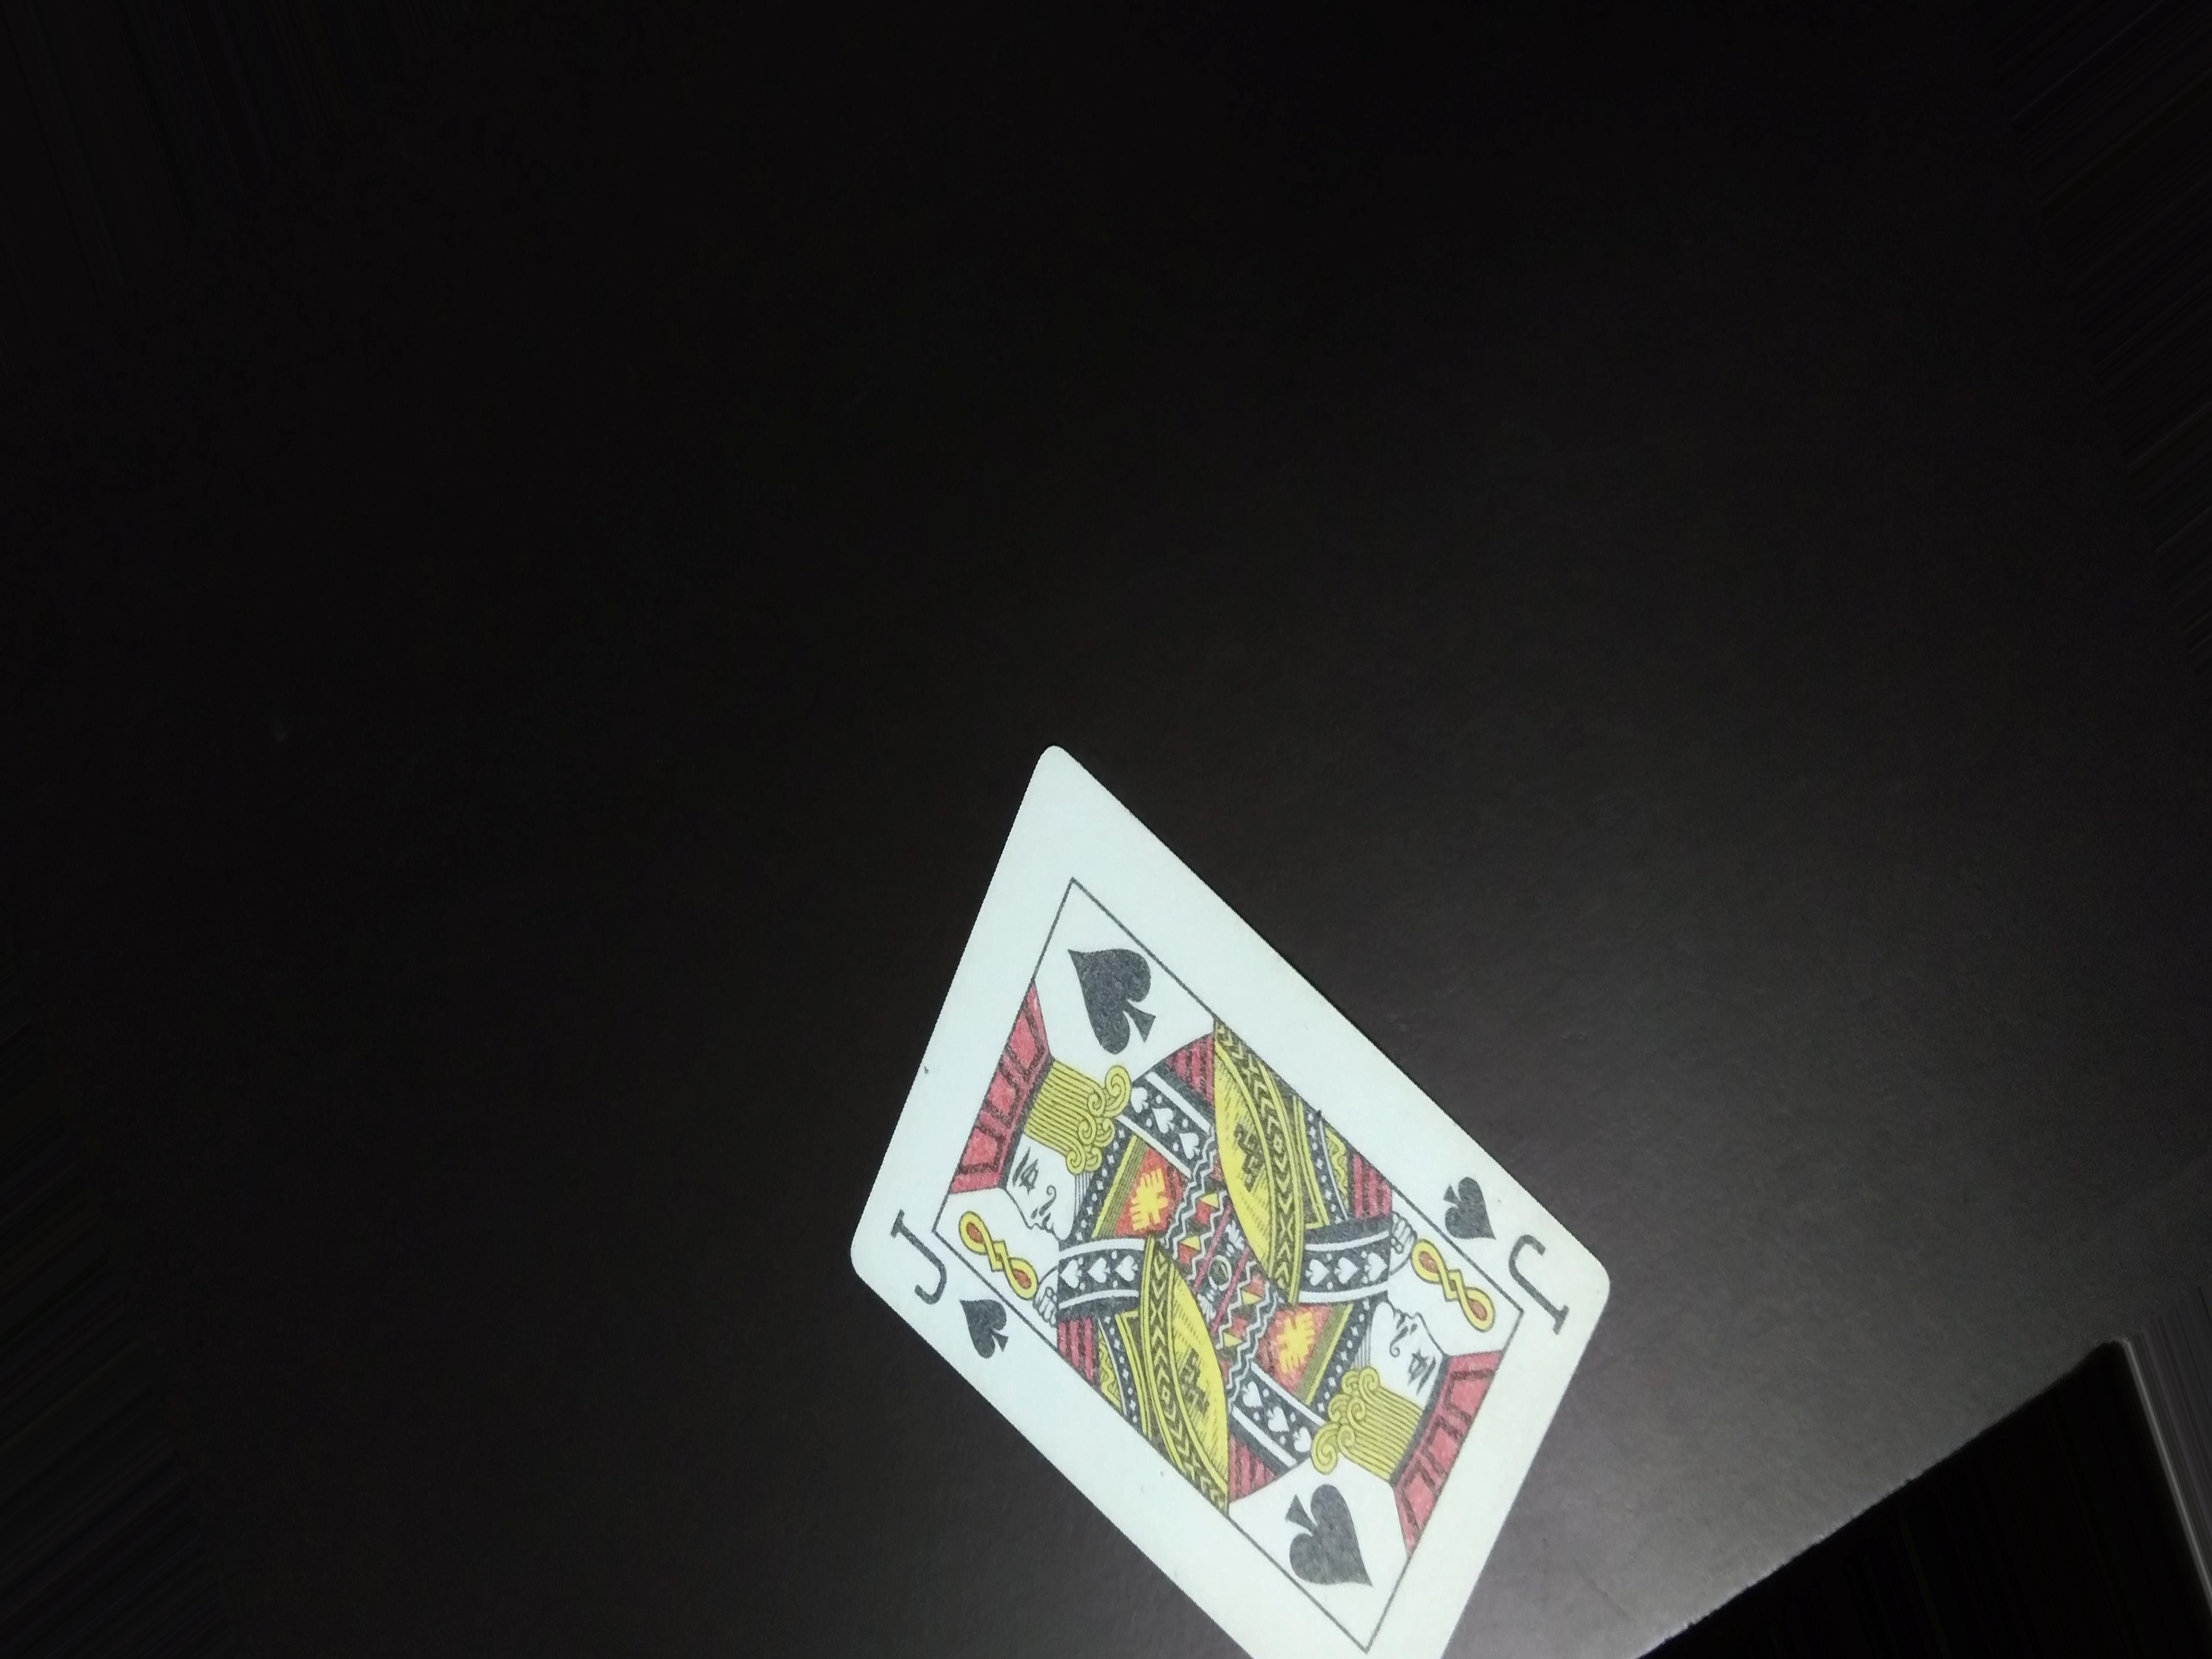JS: (878, 1204, 1015, 1364)
